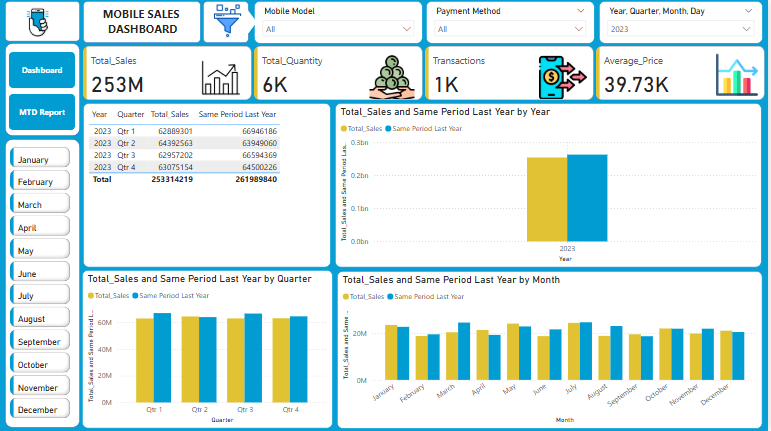

This screenshot's page, from the dashboard's own definition file:
{"tool":"powerbi","page":{"name":"Same Period Last Year","canvas":[1280,720],"ordinal":2},"visuals":[{"type":"shape","box":[7.5,3.8,125,67.5],"z":0},{"type":"image","box":[23.8,3.8,78.8,71.2],"z":1000},{"type":"shape","box":[7.5,73.8,125,155],"z":2000},{"type":"cardVisual","fields":{"Data":["Sales_Data.Total_Sales","Sales_Data.Total_Quantity","Sales_Data.Transactions","Sales_Data.Average_Price"]},"box":[132.5,73.8,1147.5,100],"z":3000},{"type":"slicer","fields":{"Values":["Sales_Data.Mobile Model"]},"box":[423.8,3.8,281.2,71.2],"z":4000},{"type":"slicer","fields":{"Values":["Sales_Data.Payment Method"]},"box":[710,3.8,281.2,71.2],"z":5000},{"type":"slicer","fields":{"Values":["Custom_Calendar.Date.Variation.Date Hierarchy.Year","Custom_Calendar.Date.Variation.Date Hierarchy.Quarter","Custom_Calendar.Date.Variation.Date Hierarchy.Month","Custom_Calendar.Date.Variation.Date Hierarchy.Day"]},"box":[997.5,3.8,272.5,71.2],"z":6000},{"type":"shape","box":[338.8,3.8,76.2,70],"z":7000},{"type":"image","box":[337.5,3.8,81.2,66.2],"z":8000},{"type":"shape","box":[397.5,17.5,30,40],"z":9000},{"type":"shape","box":[137.5,3.8,196.2,70],"z":10000},{"type":"textbox","box":[156.2,6.2,162.5,63.8],"z":11000},{"type":"shape","box":[7.5,232.5,125,481.2],"z":12000},{"type":"advancedSlicerVisual","fields":{"Values":["Custom_Calendar.Date.Variation.Date Hierarchy.Month"]},"box":[11.2,241.2,110,472.5],"z":13000},{"type":"tableEx","fields":{"Values":["Custom_Calendar.Date.Variation.Date Hierarchy.Year","Custom_Calendar.Date.Variation.Date Hierarchy.Quarter","Sales_Data.Total_Sales","Sales_Data.Same Period Last Year"]},"box":[137.5,173.8,412.5,273.8],"z":14000},{"type":"clusteredColumnChart","fields":{"Category":["Custom_Calendar.Date.Variation.Date Hierarchy.Year","Custom_Calendar.Date.Variation.Date Hierarchy.Quarter"],"Y":["Sales_Data.Total_Sales","Sales_Data.Same Period Last Year"]},"box":[558.8,173.8,711.2,273.8],"z":15000},{"type":"clusteredColumnChart","fields":{"Y":["Sales_Data.Total_Sales","Sales_Data.Same Period Last Year"],"Category":["Custom_Calendar.Date.Variation.Date Hierarchy.Year","Custom_Calendar.Date.Variation.Date Hierarchy.Quarter","Custom_Calendar.Date.Variation.Date Hierarchy.Month","Custom_Calendar.Date.Variation.Date Hierarchy.Day"]},"box":[561.2,452.5,708.8,262.5],"z":16000},{"type":"clusteredColumnChart","fields":{"Category":["Custom_Calendar.Date.Variation.Date Hierarchy.Year","Custom_Calendar.Date.Variation.Date Hierarchy.Quarter"],"Y":["Sales_Data.Total_Sales","Sales_Data.Same Period Last Year"]},"box":[136.2,451.2,417.5,263.8],"z":17000},{"type":"pageNavigator","box":[15,88.8,110,130],"z":18000}]}

Visuals, with their boxes in screenshot pixels (x1, y1, x2, y2), scaled from the page's 1280x720 canvas onto the 771x431 screenshot:
shape: detection(5, 2, 80, 43)
image: detection(14, 2, 62, 45)
shape: detection(5, 44, 80, 137)
cardVisual - Sales_Data.Total_Sales x Sales_Data.Total_Quantity: detection(80, 44, 770, 104)
slicer - Sales_Data.Mobile Model: detection(255, 2, 425, 45)
slicer - Sales_Data.Payment Method: detection(428, 2, 597, 45)
slicer - Custom_Calendar.Date.Variation.Date Hierarchy.Year x Custom_Calendar.Date.Variation.Date Hierarchy.Quarter: detection(601, 2, 765, 45)
shape: detection(204, 2, 250, 44)
image: detection(203, 2, 252, 42)
shape: detection(239, 10, 258, 34)
shape: detection(83, 2, 201, 44)
textbox: detection(94, 4, 192, 42)
shape: detection(5, 139, 80, 427)
advancedSlicerVisual - Custom_Calendar.Date.Variation.Date Hierarchy.Month: detection(7, 144, 73, 427)
tableEx - Custom_Calendar.Date.Variation.Date Hierarchy.Year x Custom_Calendar.Date.Variation.Date Hierarchy.Quarter: detection(83, 104, 331, 268)
clusteredColumnChart - Custom_Calendar.Date.Variation.Date Hierarchy.Year x Custom_Calendar.Date.Variation.Date Hierarchy.Quarter: detection(337, 104, 765, 268)
clusteredColumnChart - Sales_Data.Total_Sales x Sales_Data.Same Period Last Year: detection(338, 271, 765, 428)
clusteredColumnChart - Custom_Calendar.Date.Variation.Date Hierarchy.Year x Custom_Calendar.Date.Variation.Date Hierarchy.Quarter: detection(82, 270, 334, 428)
pageNavigator: detection(9, 53, 75, 131)
